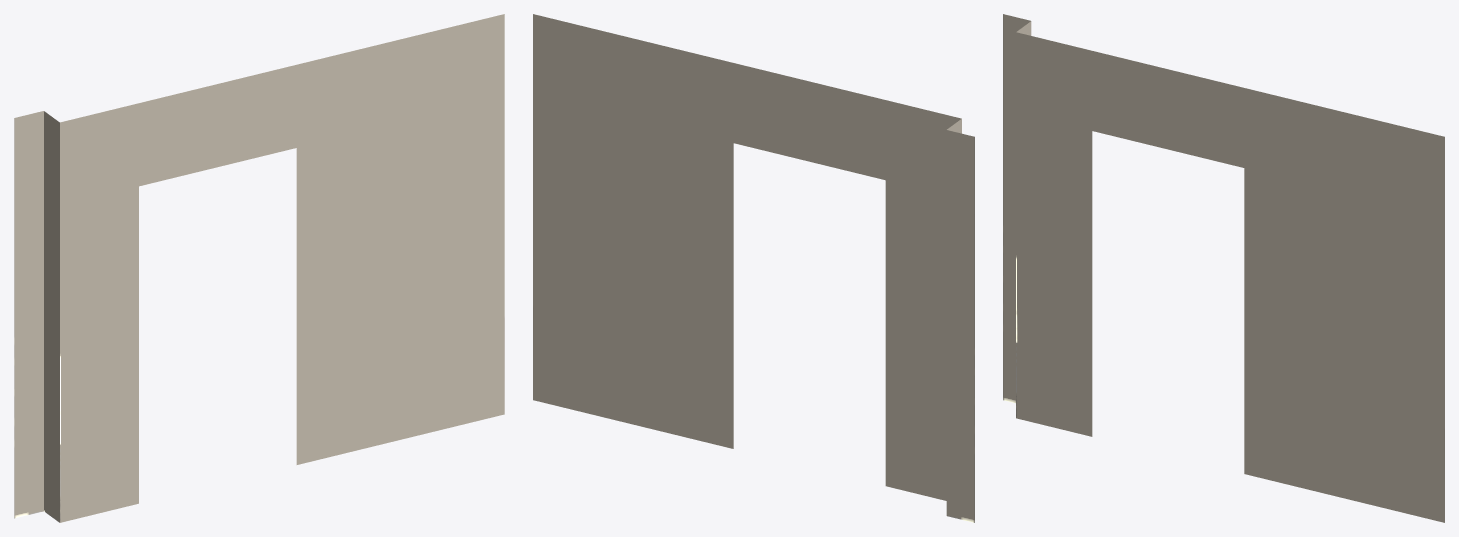
Rendered from cabin_Wall.fbx.
The picture shows the model from 3 angles, left to right: view 1: azimuth 30°, elevation 25°; view 2: azimuth 150°, elevation 25°; view 3: azimuth 330°, elevation 25°; orthographic projection. The views are drawn at different scales.
Visible parts, largest first — view 1: room.001; view 2: room.001; view 3: room.001.
Part boxes in pixels (<box>): room.001: <box>14,14,504,522</box>; room.001: <box>533,14,974,522</box>; room.001: <box>1003,14,1444,522</box>.
Bounding box in the file's own units: 340 × 274 × 19.78.
1 material, 1 textured.
